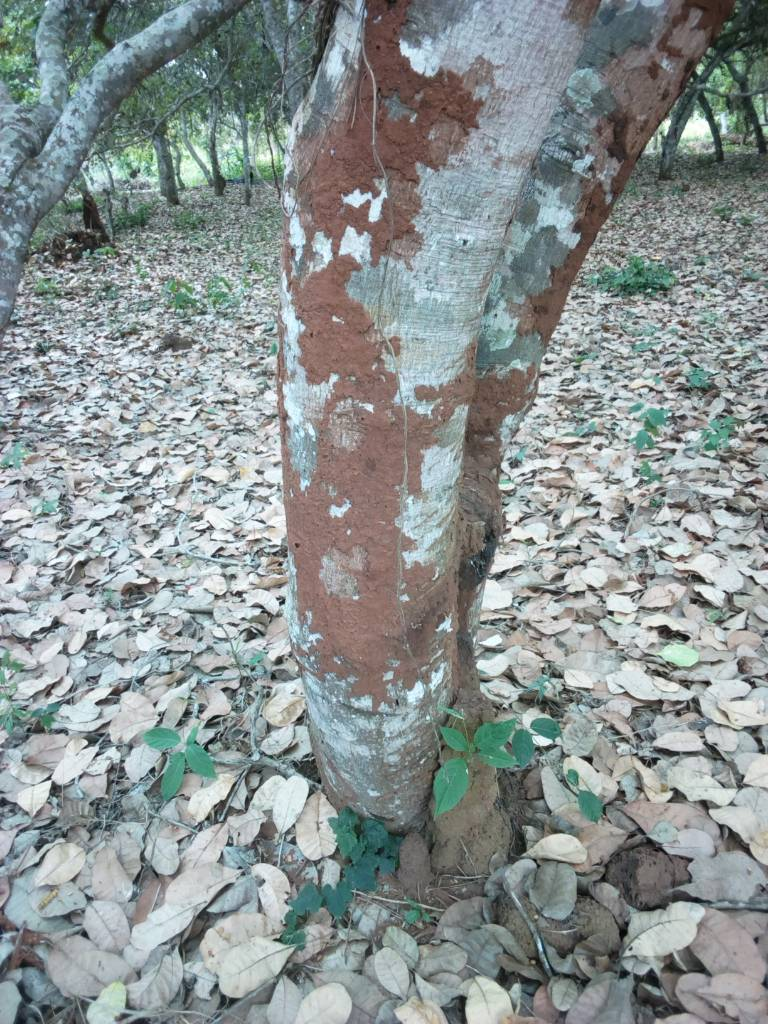Termites: (283, 10, 460, 683)
